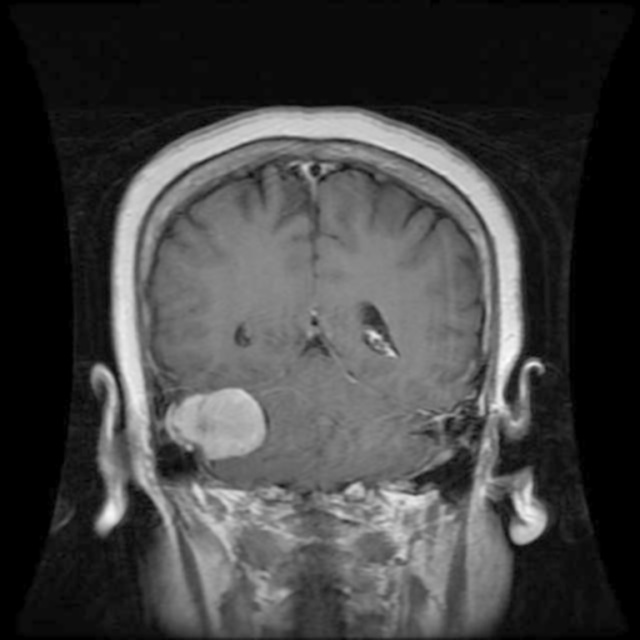meningioma tumor: (148, 376, 282, 470)
